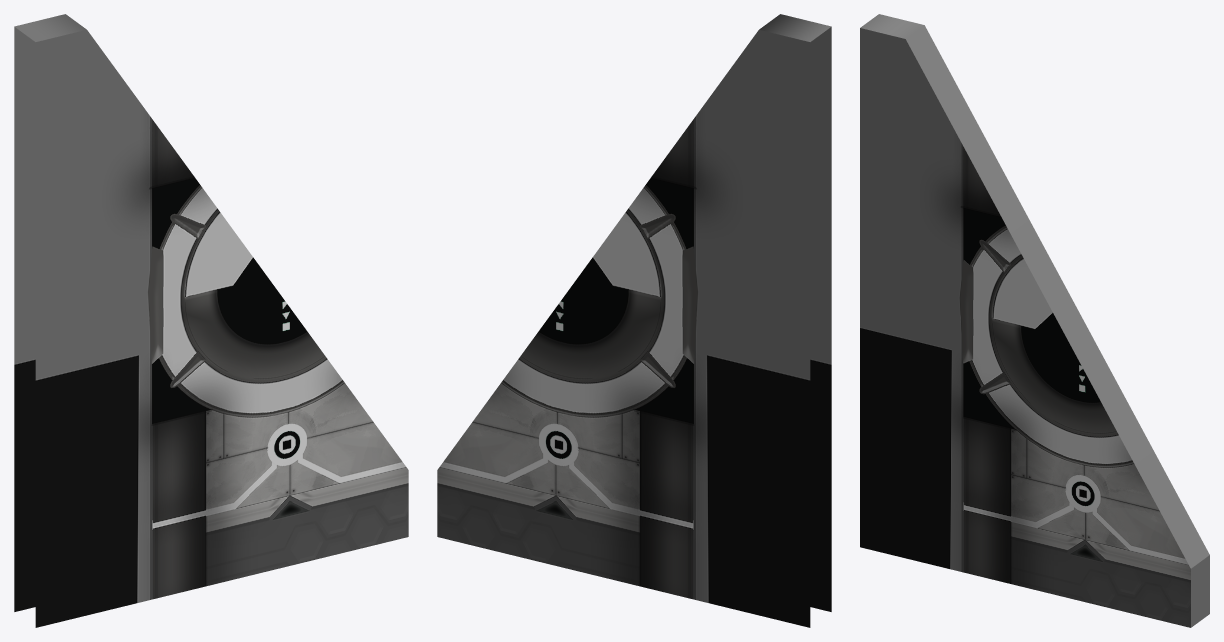
The model's file is Half_Wall.fbx.
The picture shows the model from 3 angles, left to right: view 1: azimuth 30°, elevation 25°; view 2: azimuth 150°, elevation 25°; view 3: azimuth 330°, elevation 25°; orthographic projection. The views are drawn at different scales.
Visible parts, largest first — view 1: Half_Wall; view 2: Half_Wall; view 3: Half_Wall.
Part boxes in pixels (<box>): Half_Wall: <box>14,14,408,627</box>; Half_Wall: <box>437,14,831,627</box>; Half_Wall: <box>860,14,1209,627</box>.
Size of the model in its own units: 200 by 300 by 19.92.
